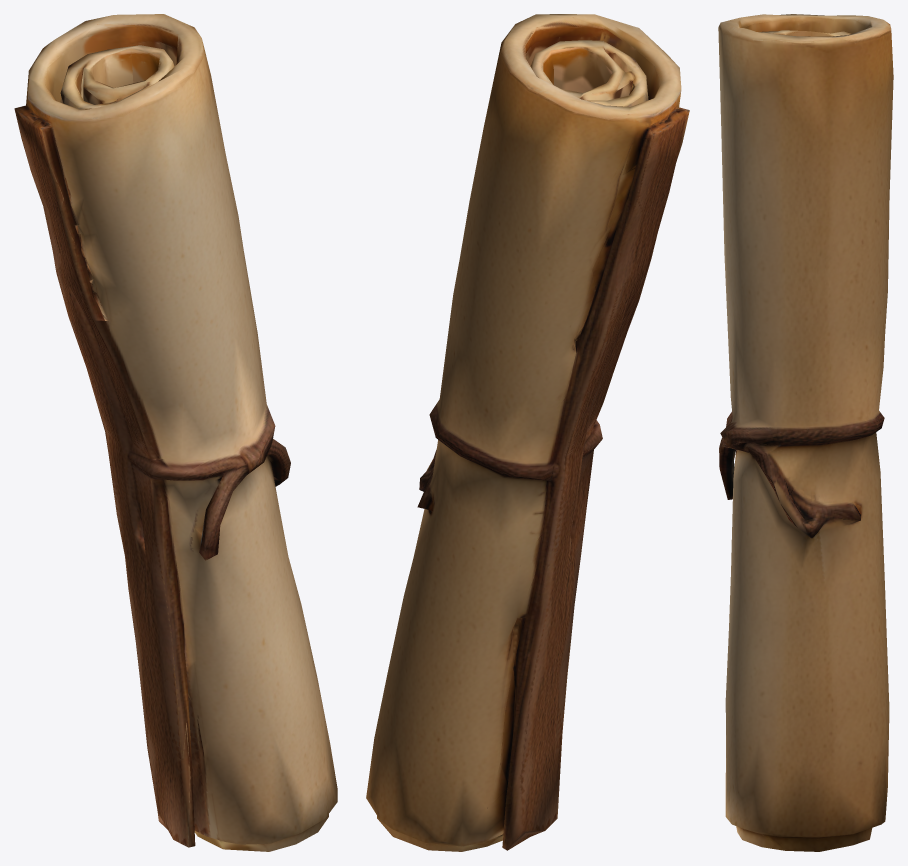
File: Map2.fbx
The picture shows the model from 3 angles, left to right: view 1: azimuth 30°, elevation 25°; view 2: azimuth 150°, elevation 25°; view 3: azimuth 270°, elevation 25°; orthographic projection. The views are drawn at different scales.
Parts seen in each view (by area): view 1: material_0; view 2: material_0; view 3: material_0.
Boxes of the visible parts, x1,y1,x2,y2 form: material_0: (14,14,337,851); material_0: (366,14,689,851); material_0: (718,14,893,851).
Bounding box in the file's own units: 37.99 × 100 × 20.77.
Materials: 1 (1 with a texture image).
